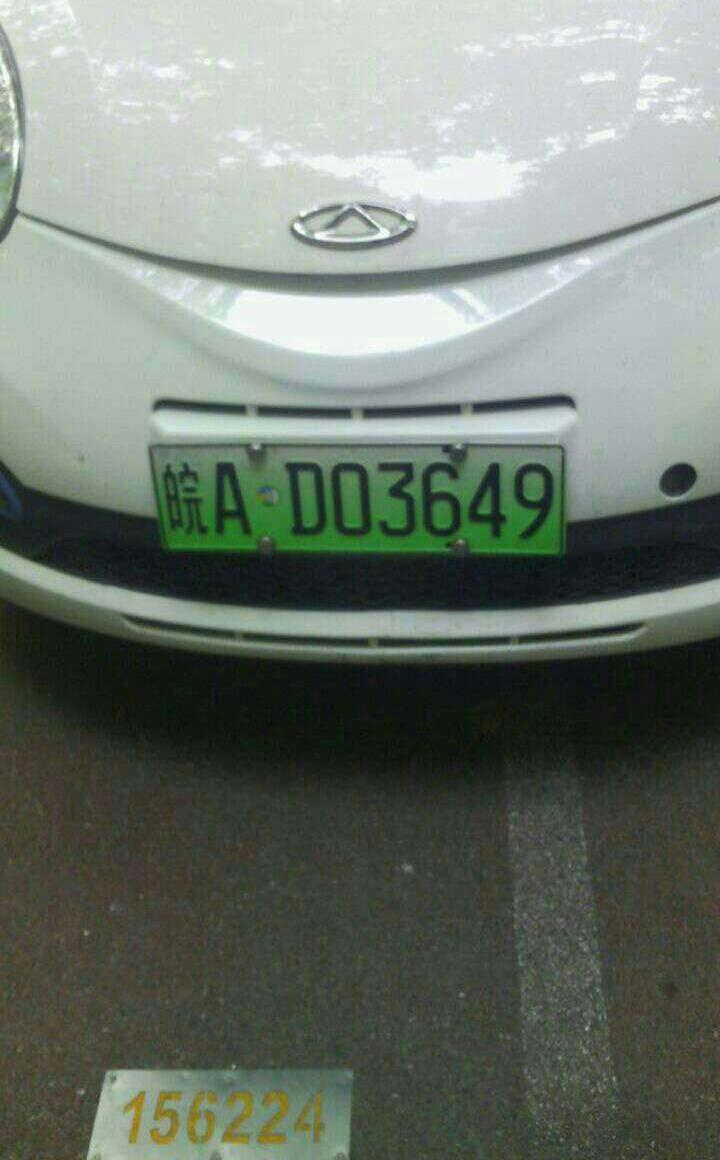car_id: (148, 450, 563, 553)
